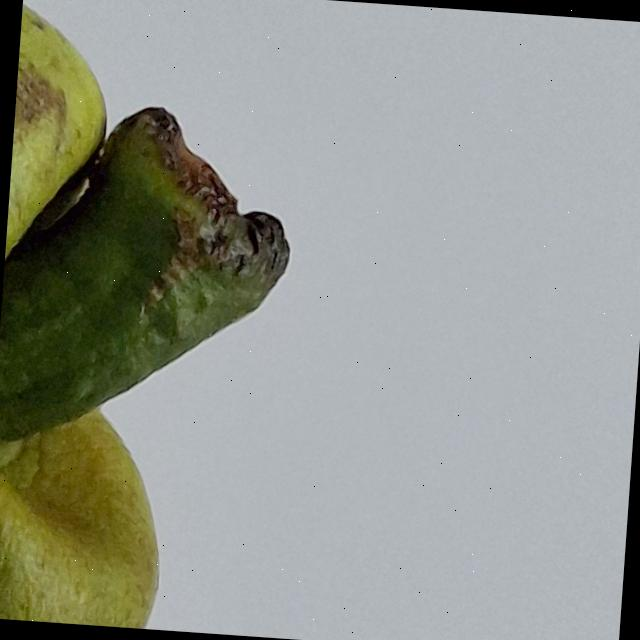mangosteen: (0, 0, 362, 640)
